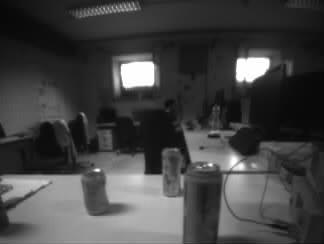Bottle: (212, 103, 220, 130)
Tin can: (182, 161, 221, 244), (85, 170, 110, 215), (162, 148, 181, 198)
